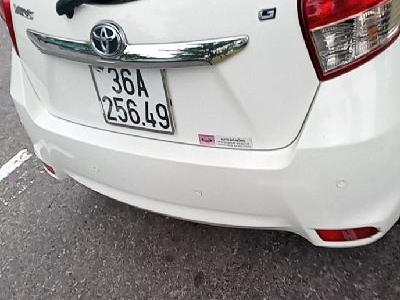lisence: (87, 63, 178, 137)
